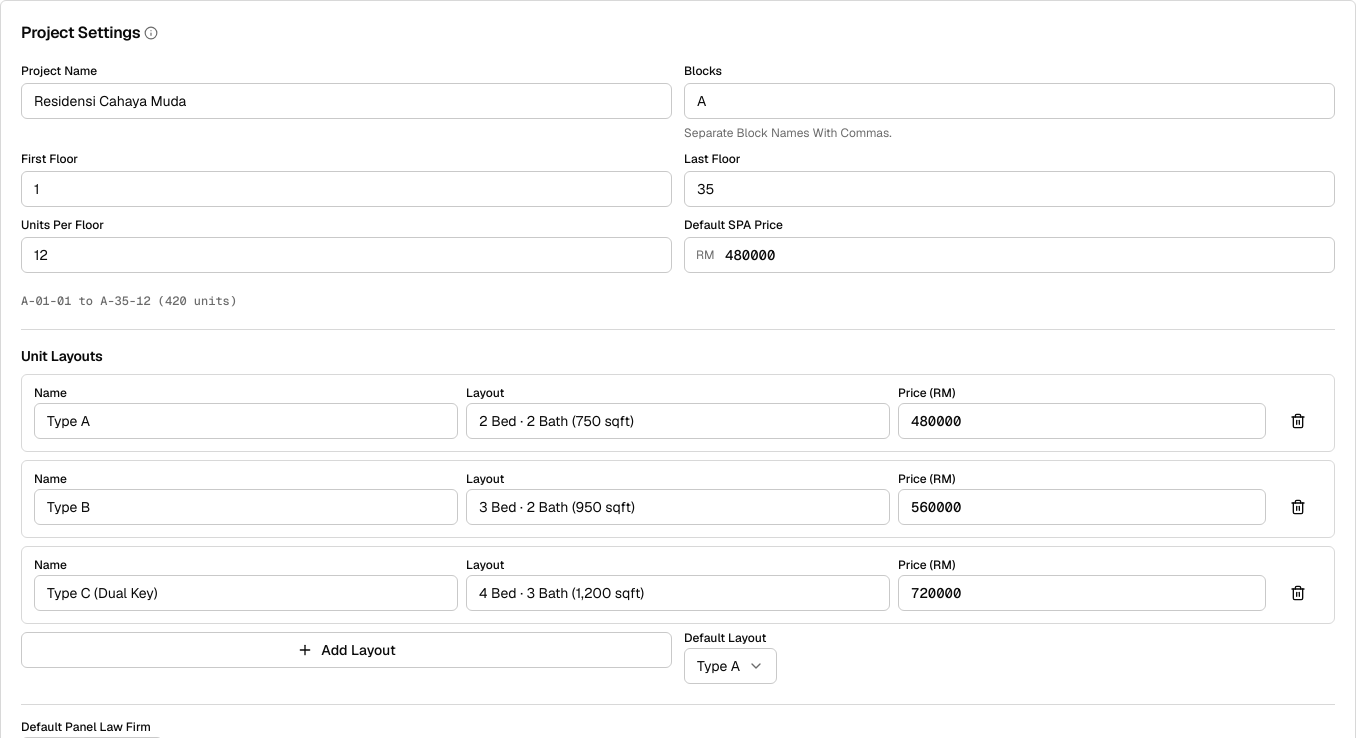
Test: ProjectSettingsCard › updates the live multi-block inventory preview
Replace the text in the field labelled "Blocks" with "B, C". click: (1010, 101)
box: [684,83,1335,119]
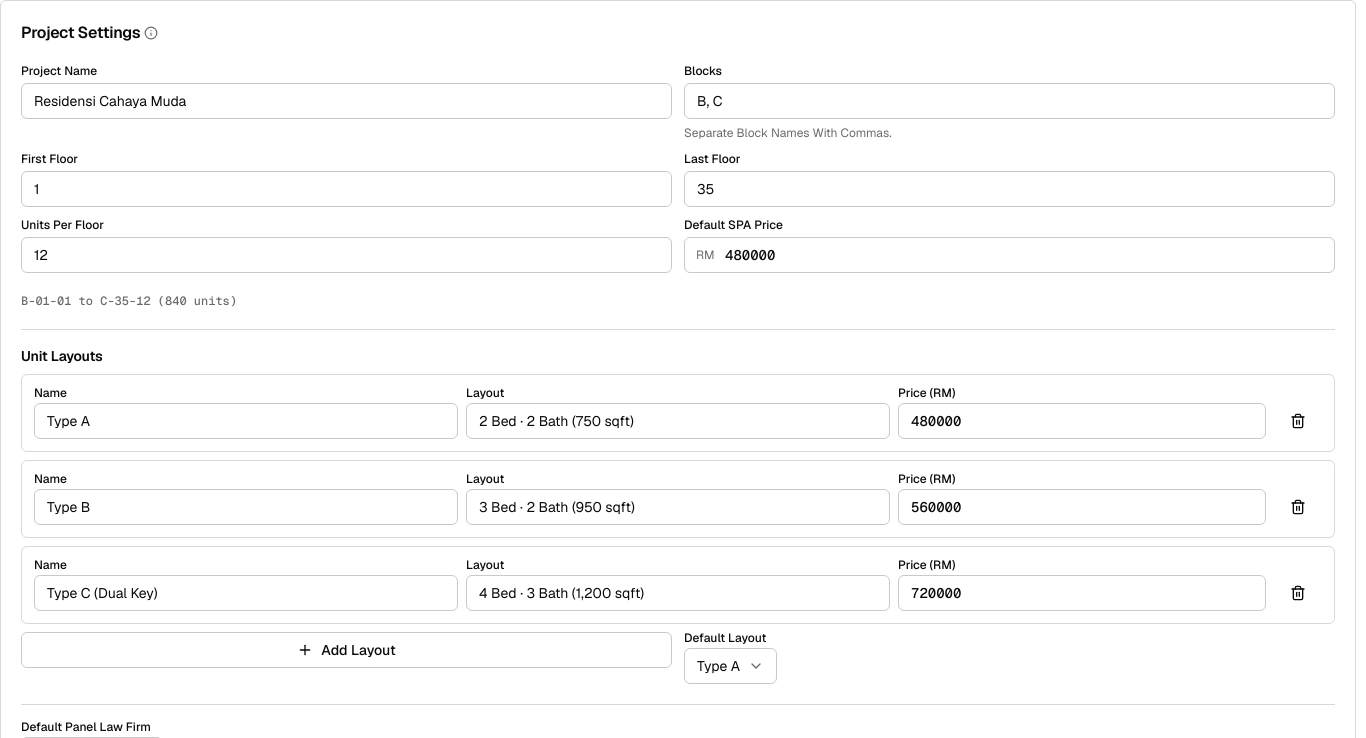
Check: the text "B-01-01 to C-35-12 (840 units)" is shown, box [21,293,237,309]
